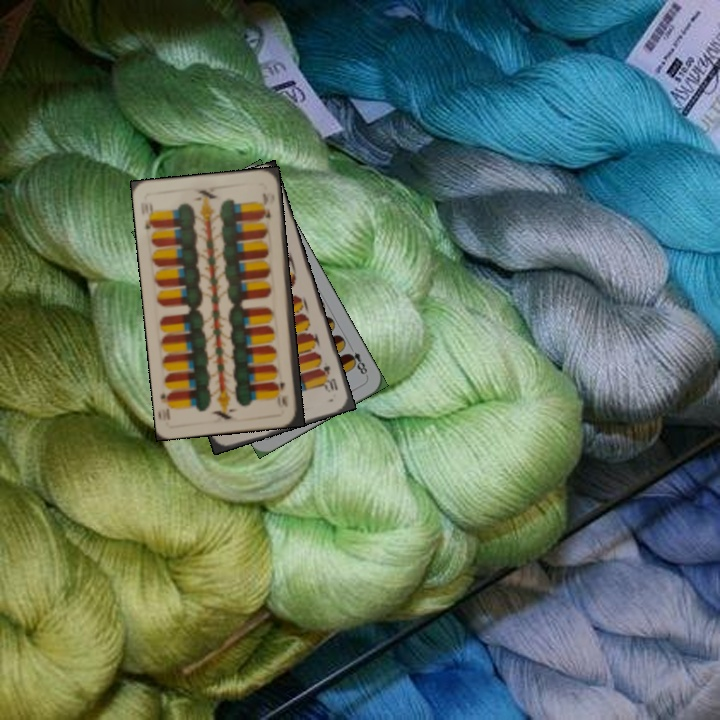E10: (318, 361, 340, 395), (141, 200, 158, 232), (275, 378, 291, 410)
E8: (343, 342, 370, 379)
